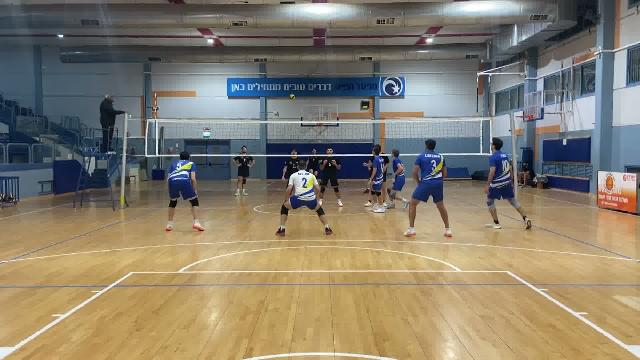ball: (288, 93, 297, 100)
